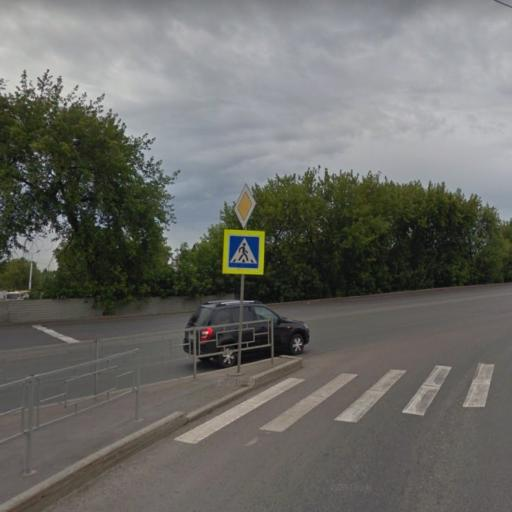traffic_sign: (222, 229, 267, 280), (232, 182, 263, 231)
